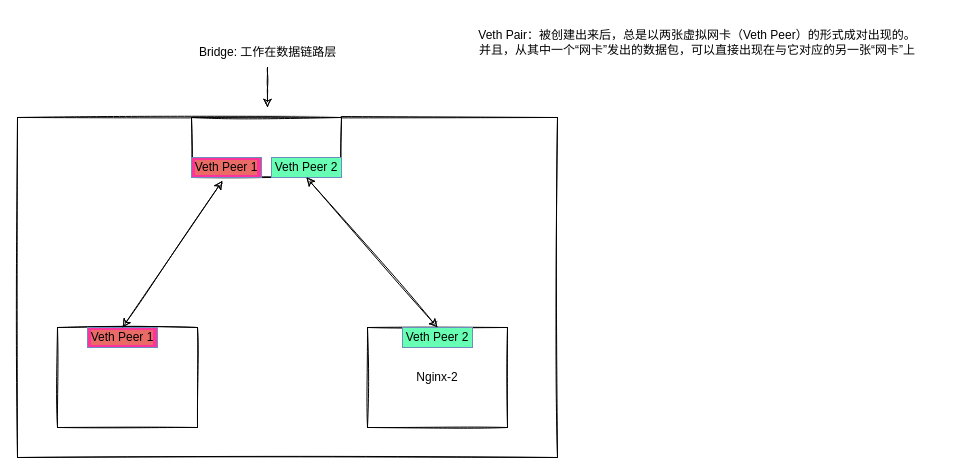
This 955x475 diagram has some shape labels left out. Here are the shapes that lost their labels. From the top down, the box of each, then its label:
(190, 116, 342, 178): docker0
(56, 326, 198, 428): Nginx-1
